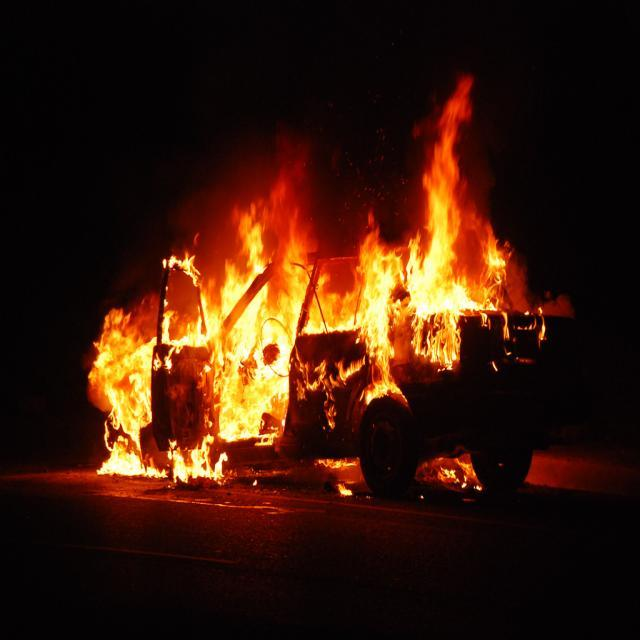Fire: (218, 276, 288, 434), (96, 323, 155, 430), (423, 193, 461, 354), (358, 251, 396, 382)
